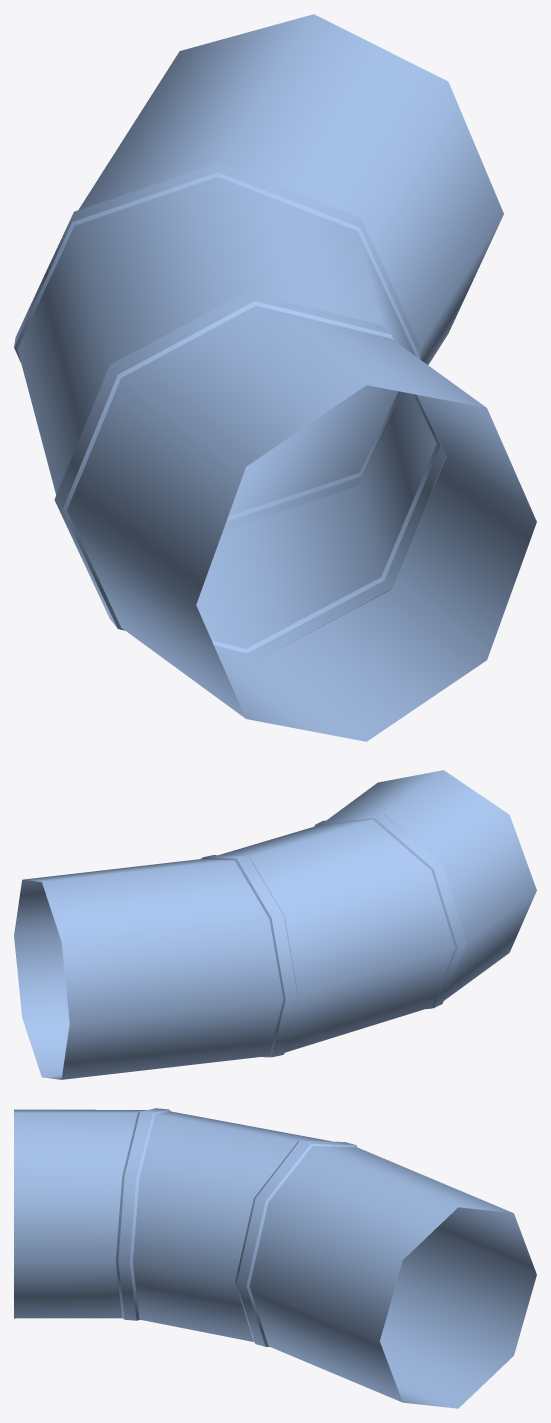
File: PipeSmall_Stepped_BentDeg45_03.fbx
3 views of the same model, one above another, from view 1: azimuth 30°, elevation 25°; view 2: azimuth 150°, elevation 25°; view 3: azimuth 270°, elevation 25° (orthographic). The views are drawn at different scales.
Visible parts, largest first — view 1: PipeSmall_Stepped_BentDeg45_03.001; view 2: PipeSmall_Stepped_BentDeg45_03.001; view 3: PipeSmall_Stepped_BentDeg45_03.001.
Boxes of the visible parts, bbox=[...] form: PipeSmall_Stepped_BentDeg45_03.001: bbox=[14, 14, 536, 741]; PipeSmall_Stepped_BentDeg45_03.001: bbox=[14, 770, 536, 1079]; PipeSmall_Stepped_BentDeg45_03.001: bbox=[14, 1108, 536, 1408].
Size of the model in its own units: 0.1862 by 0.1014 by 0.2353.
